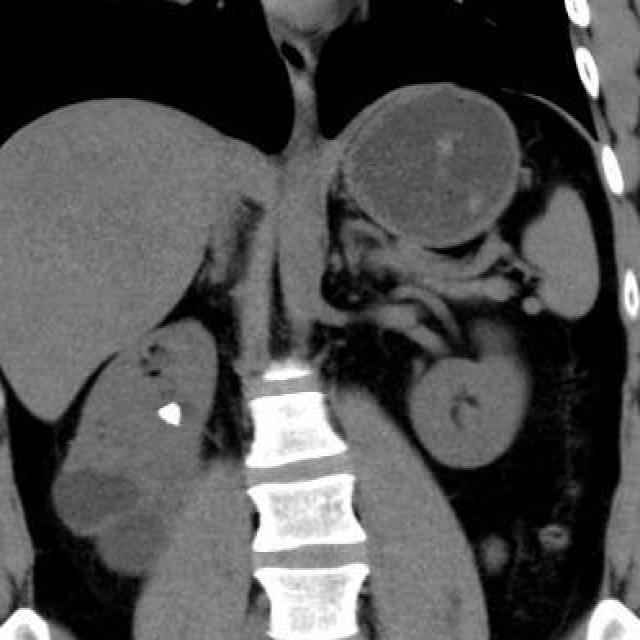Tas_Var: (154, 397, 185, 433)
